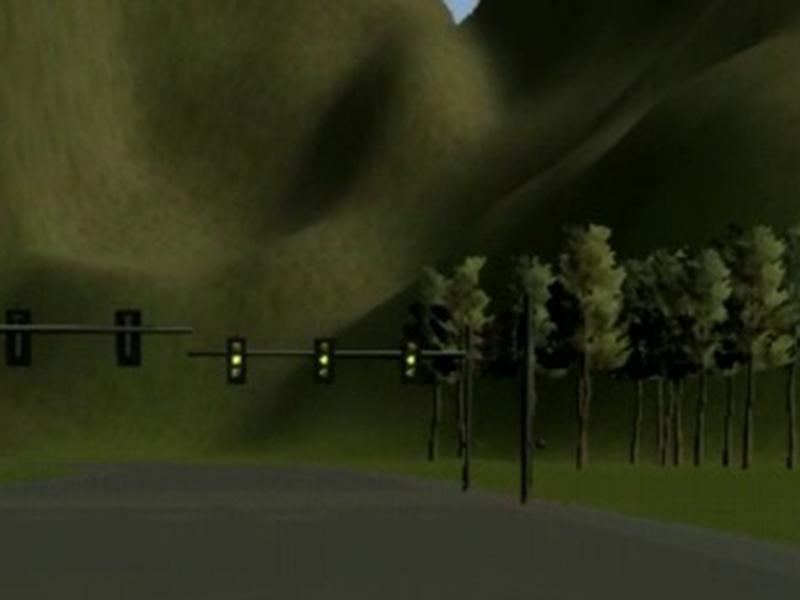Yellow: (226, 335, 247, 384), (313, 337, 333, 382), (401, 340, 419, 382)
